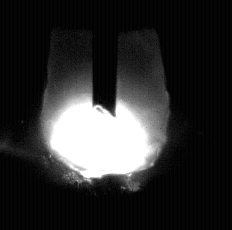arame: (93, 0, 118, 117)
poca: (40, 0, 168, 230)
